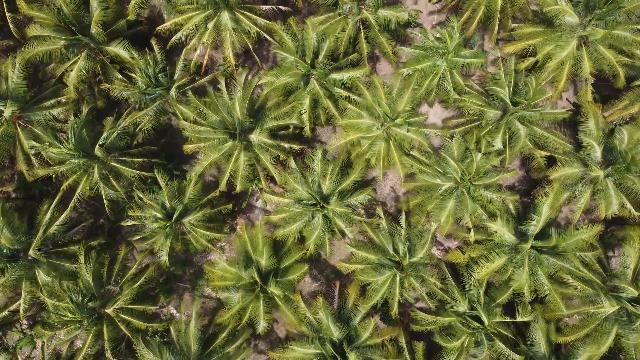trees: (23, 234, 168, 358), (178, 69, 305, 200), (9, 4, 162, 109), (446, 54, 573, 177), (493, 3, 639, 107), (530, 96, 638, 233), (17, 95, 153, 202), (520, 233, 637, 357), (410, 254, 540, 360), (201, 222, 312, 345), (121, 164, 239, 274), (406, 134, 521, 245), (266, 152, 378, 265), (334, 73, 442, 184), (2, 191, 90, 319), (272, 279, 402, 360), (161, 4, 294, 78), (407, 16, 492, 105), (2, 49, 57, 148), (331, 4, 418, 62), (430, 2, 524, 46), (2, 197, 36, 259)
